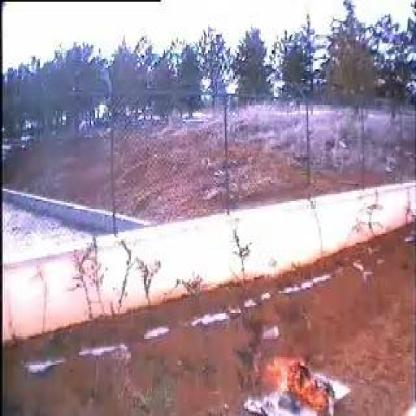foggia-v2-map80-epoch100 - v1 4323: (261, 360, 323, 401)
